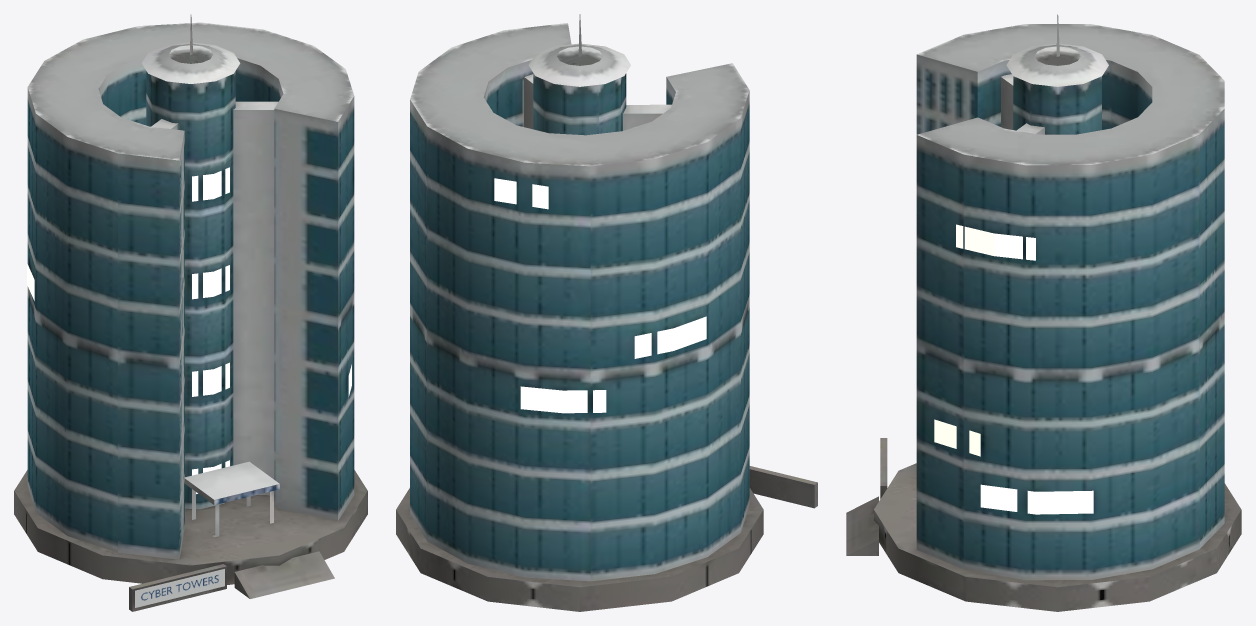
Rendered from cyber_towers.glb.
The picture shows the model from 3 angles, left to right: view 1: azimuth 30°, elevation 25°; view 2: azimuth 150°, elevation 25°; view 3: azimuth 270°, elevation 25°; orthographic projection. The views are drawn at different scales.
Parts seen in each view (by area): view 1: cyber_towers_body, ct_lit, ct_signq; view 2: cyber_towers_body, ct_lit; view 3: cyber_towers_body, ct_lit.
Boxes of the visible parts, bbox=[...] form: cyber_towers_body: bbox=[14, 14, 367, 611]; ct_lit: bbox=[27, 167, 354, 493]; ct_signq: bbox=[135, 569, 224, 607]; cyber_towers_body: bbox=[396, 14, 817, 611]; ct_lit: bbox=[494, 178, 706, 413]; cyber_towers_body: bbox=[846, 14, 1241, 611]; ct_lit: bbox=[934, 224, 1093, 514].
Size of the model in its own units: 95.2 by 149 by 102.
Materials: 3 (2 with a texture image).
